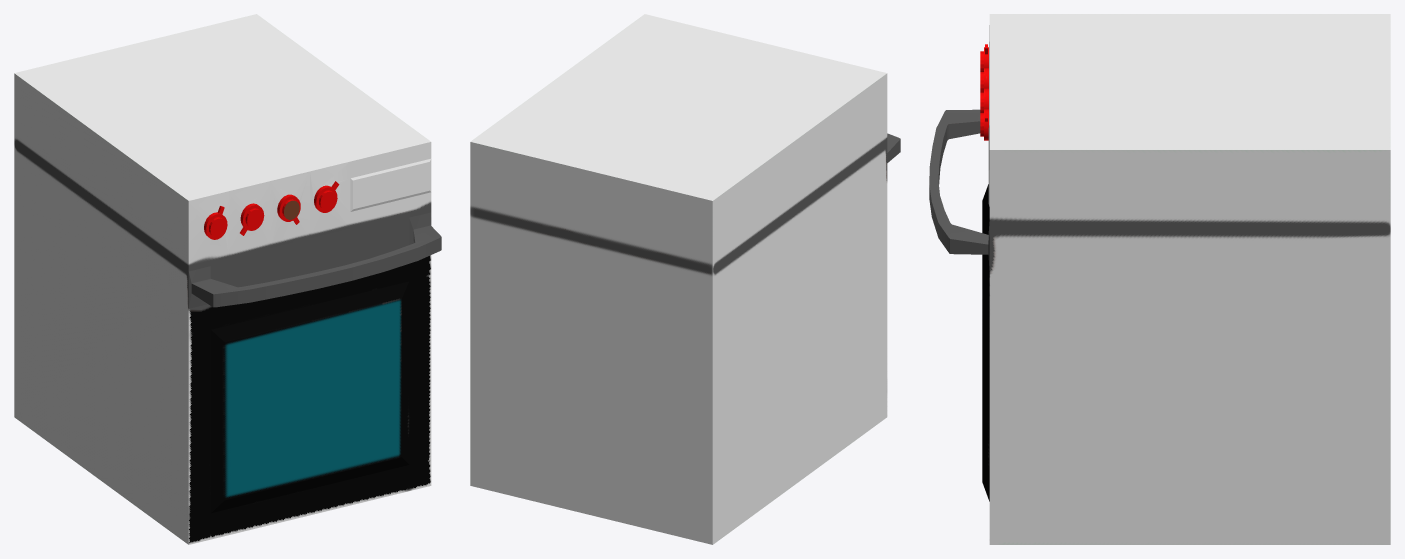
Rendered from Horno.fbx.
3 renders of one model, left to right at view 1: azimuth 30°, elevation 25°; view 2: azimuth 150°, elevation 25°; view 3: azimuth 270°, elevation 25°, orthographic. The views are drawn at different scales.
Visible parts, largest first — view 1: Horno(mapeado)(texturizado); view 2: Horno(mapeado)(texturizado); view 3: Horno(mapeado)(texturizado).
Boxes of the visible parts, x1,y1,x2,y2 form: Horno(mapeado)(texturizado): (14,14,441,544); Horno(mapeado)(texturizado): (470,14,900,544); Horno(mapeado)(texturizado): (929,14,1390,544).
Bounding box in the file's own units: 276 × 374 × 396.
